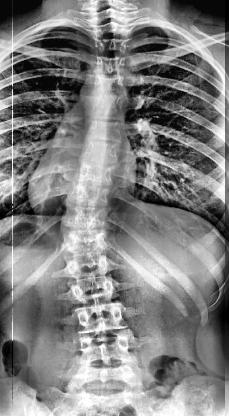Vertebrae: (68, 364, 142, 398), (76, 334, 136, 368), (74, 306, 128, 335), (69, 275, 119, 304), (80, 116, 128, 144), (82, 92, 128, 121), (62, 252, 112, 278), (65, 185, 111, 211), (60, 208, 109, 232), (61, 228, 109, 252), (78, 142, 122, 166), (70, 166, 114, 190), (88, 73, 130, 95), (91, 54, 129, 76), (91, 38, 131, 56), (91, 23, 133, 39)
